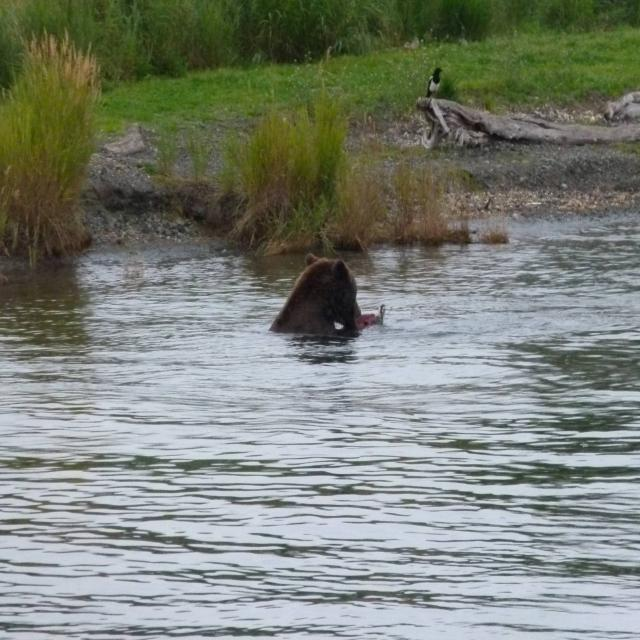bear face: (273, 251, 363, 328)
